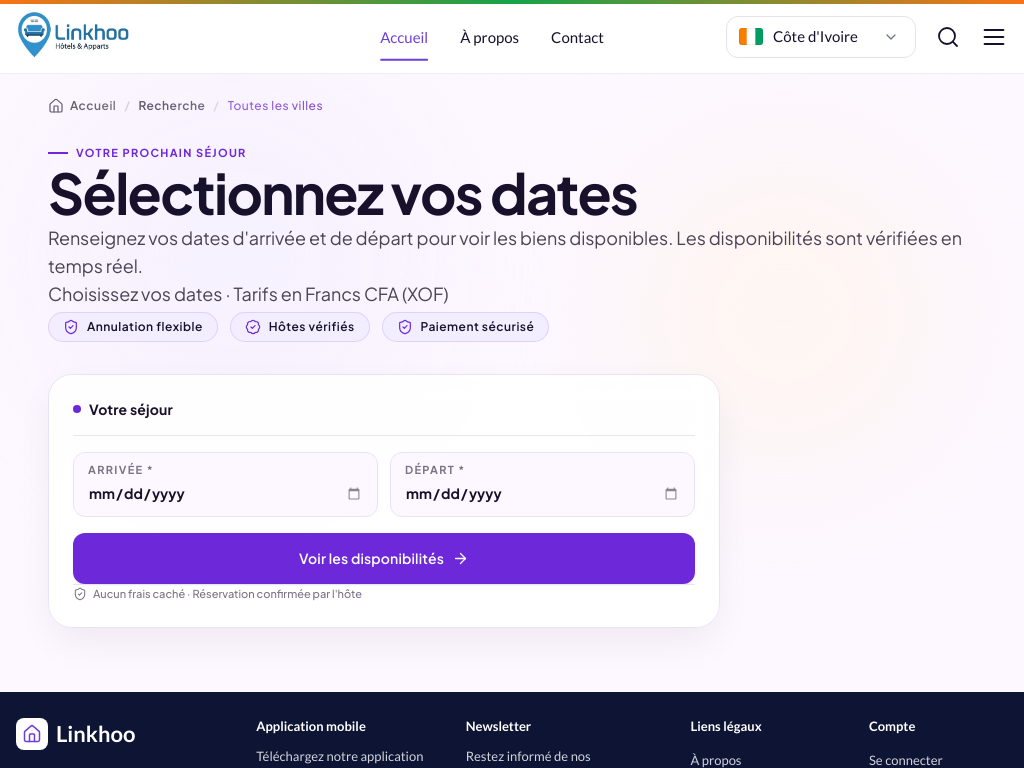
Scenario: SearchResultsPage — panneau de dates › efface l’erreur dès qu’une date est saisie
Expected: the heading "Sélectionnez vos dates" is shown, [48,157,637,227]
Click the button "Voir les disponibilités" at point(384, 559), box [73,533,695,584]
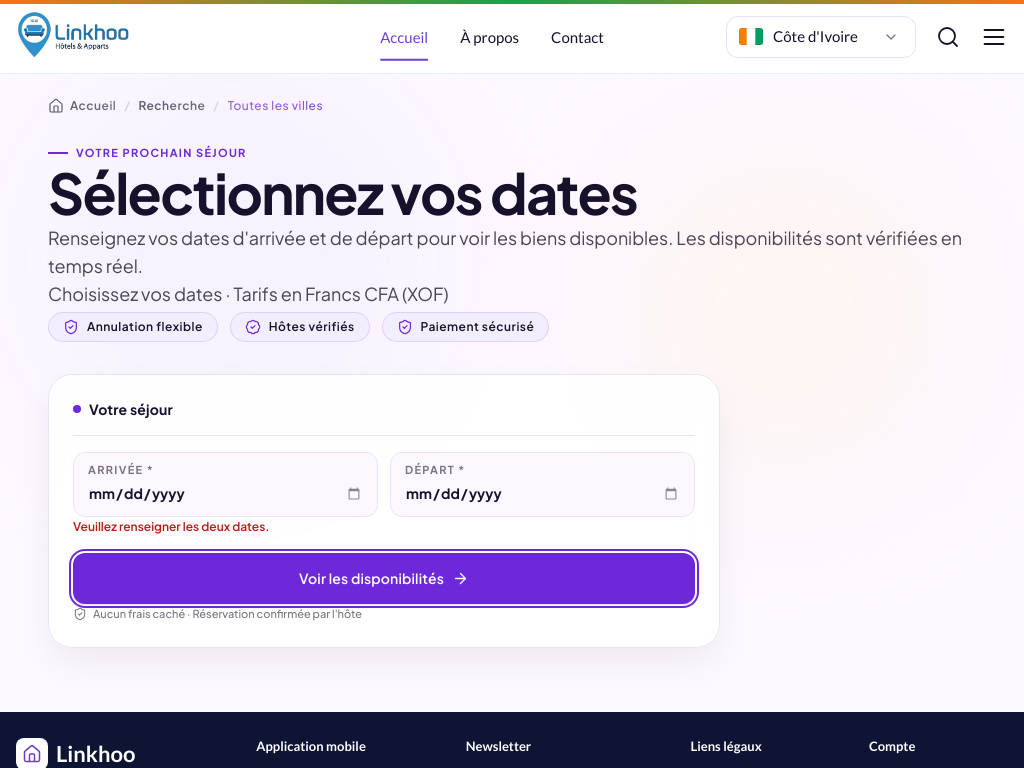
Result: the message "Veuillez renseigner les deux dates." is shown at [73,519,270,534]
Type "2026-03-01" into the date field labelled "Arrivée *" at point(226, 494), box [88,481,363,506]
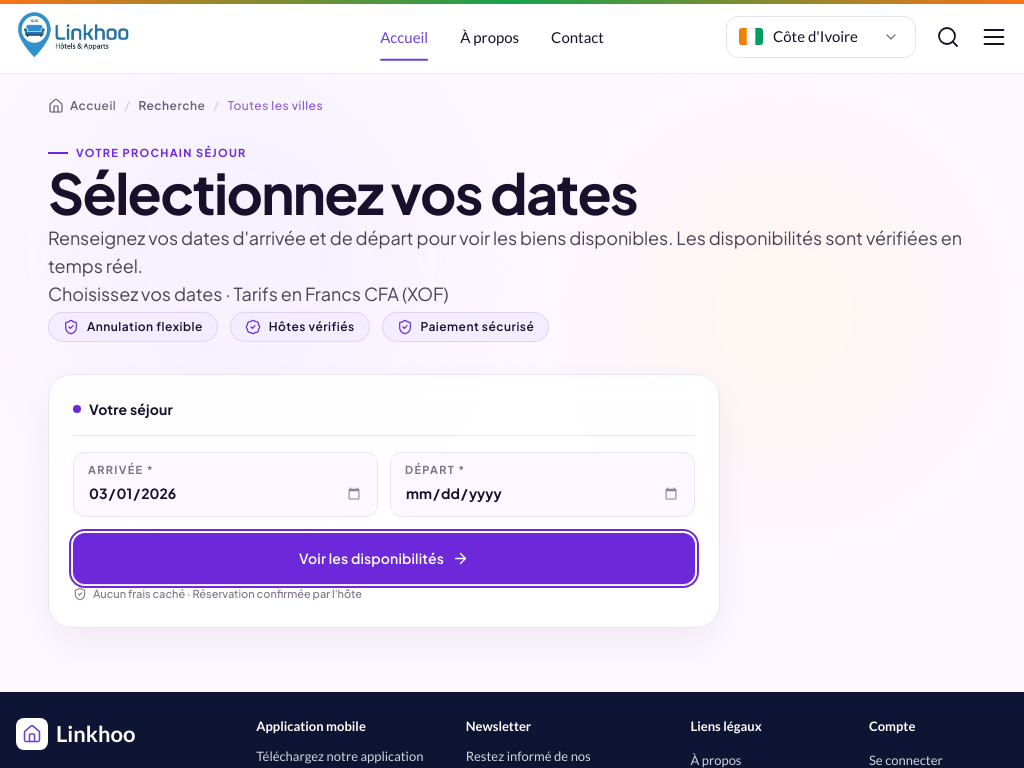
Result: the message "Veuillez renseigner les deux dates." is gone
